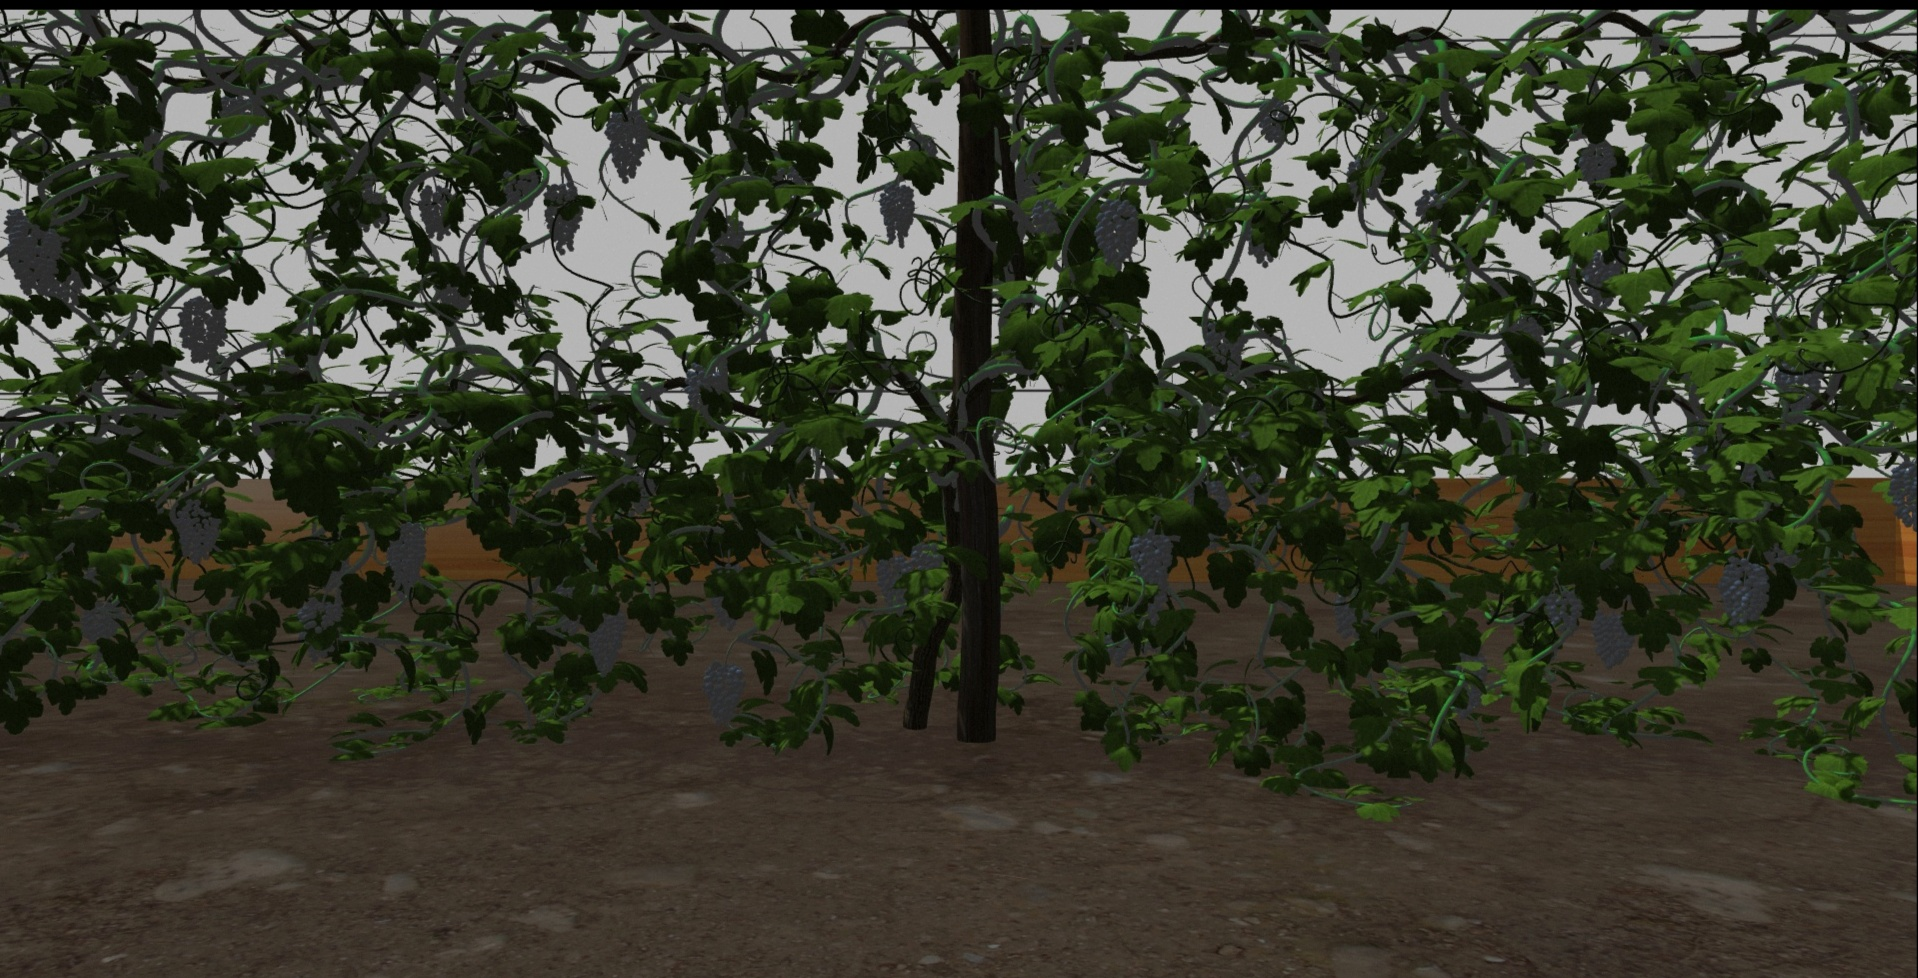grape: (2, 205, 61, 293), (1129, 529, 1173, 624), (1717, 555, 1770, 631), (383, 518, 426, 603), (601, 109, 651, 182), (176, 296, 229, 363), (1092, 197, 1140, 268), (168, 499, 219, 563), (1773, 356, 1824, 415), (542, 180, 582, 254), (701, 661, 745, 729), (1591, 608, 1634, 670), (586, 611, 626, 677), (683, 361, 728, 418), (878, 181, 917, 247), (76, 596, 122, 646), (417, 185, 456, 238), (1884, 462, 1914, 531), (875, 554, 912, 608), (296, 596, 344, 634), (1541, 589, 1583, 631), (1578, 140, 1616, 185), (501, 168, 541, 211), (1331, 593, 1368, 637), (1028, 198, 1064, 236), (1258, 101, 1289, 143), (912, 541, 943, 578)
